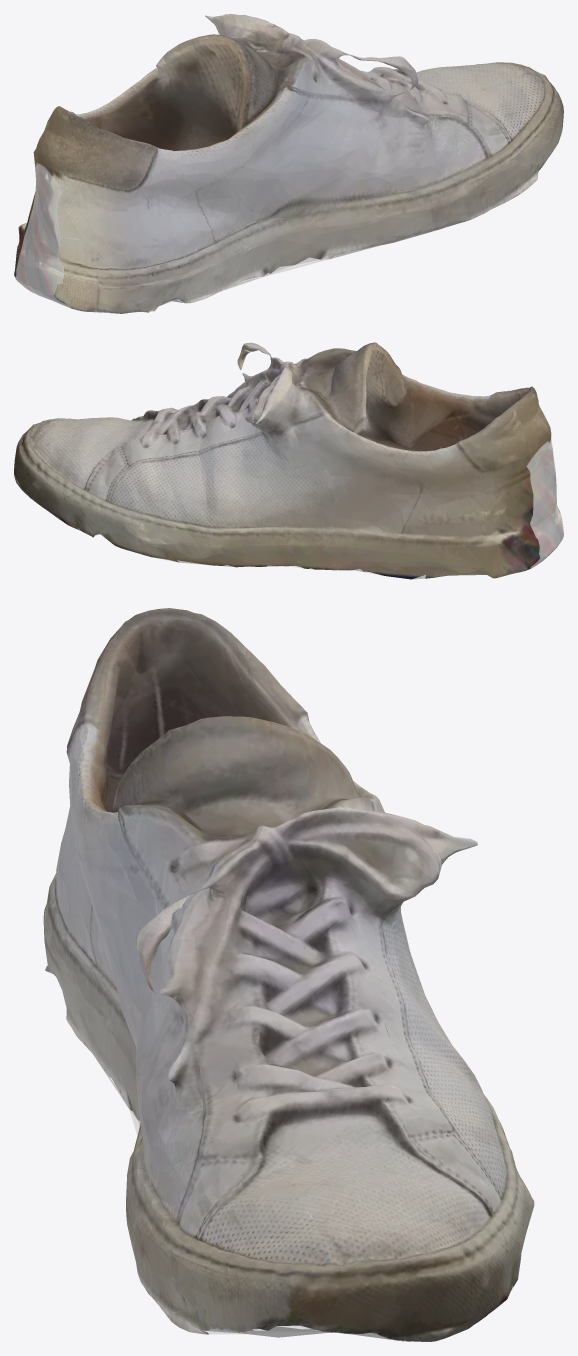
File: common_projects_achilles_low.glb
3 renders of one model, top to bottom at view 1: azimuth 30°, elevation 25°; view 2: azimuth 150°, elevation 25°; view 3: azimuth 270°, elevation 25°, orthographic. The views are drawn at different scales.
Visible parts, largest first — view 1: Object_2, Object_3, Object_5; view 2: Object_2, Object_3; view 3: Object_2, Object_3.
Part boxes in pixels (left/top/right/bottom): Object_2: left=14, top=15, right=555, bottom=284; Object_3: left=14, top=14, right=563, bottom=313; Object_5: left=171, top=227, right=445, bottom=302; Object_2: left=14, top=343, right=540, bottom=579; Object_3: left=40, top=342, right=563, bottom=576; Object_2: left=81, top=658, right=533, bottom=1341; Object_3: left=43, top=608, right=534, bottom=1332.
Bounding box in the file's own units: 18.62 × 7.09 × 8.04.
4 materials, 2 textured.
